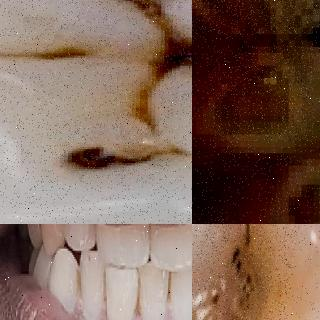cavities: (33, 0, 192, 224), (192, 224, 316, 320), (194, 61, 306, 153), (192, 0, 295, 48), (259, 173, 320, 224)
maligned: (100, 263, 144, 320), (51, 242, 80, 310)
stains: (124, 279, 147, 320), (158, 271, 180, 311), (70, 256, 85, 302)
